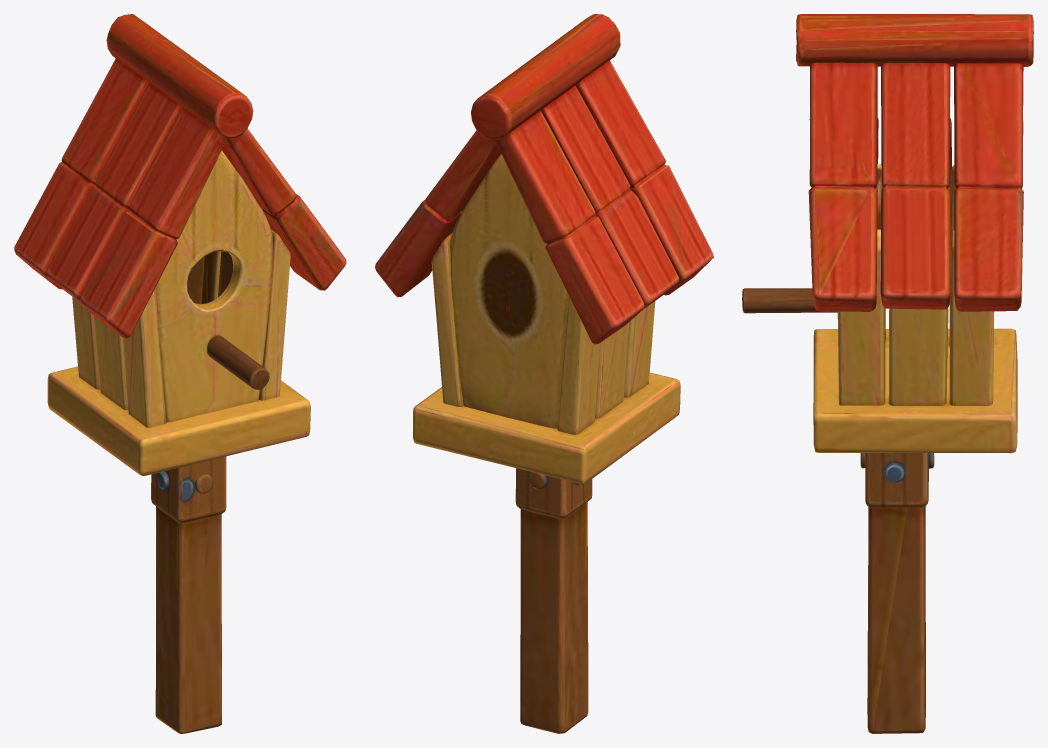
The model's file is birdhouse.glb.
3 renders of one model, left to right at view 1: azimuth 30°, elevation 25°; view 2: azimuth 150°, elevation 25°; view 3: azimuth 270°, elevation 25°, orthographic. The views are drawn at different scales.
Bounding box in the file's own units: 0.3799 × 0.9972 × 0.3729.
1 material, 1 textured.
